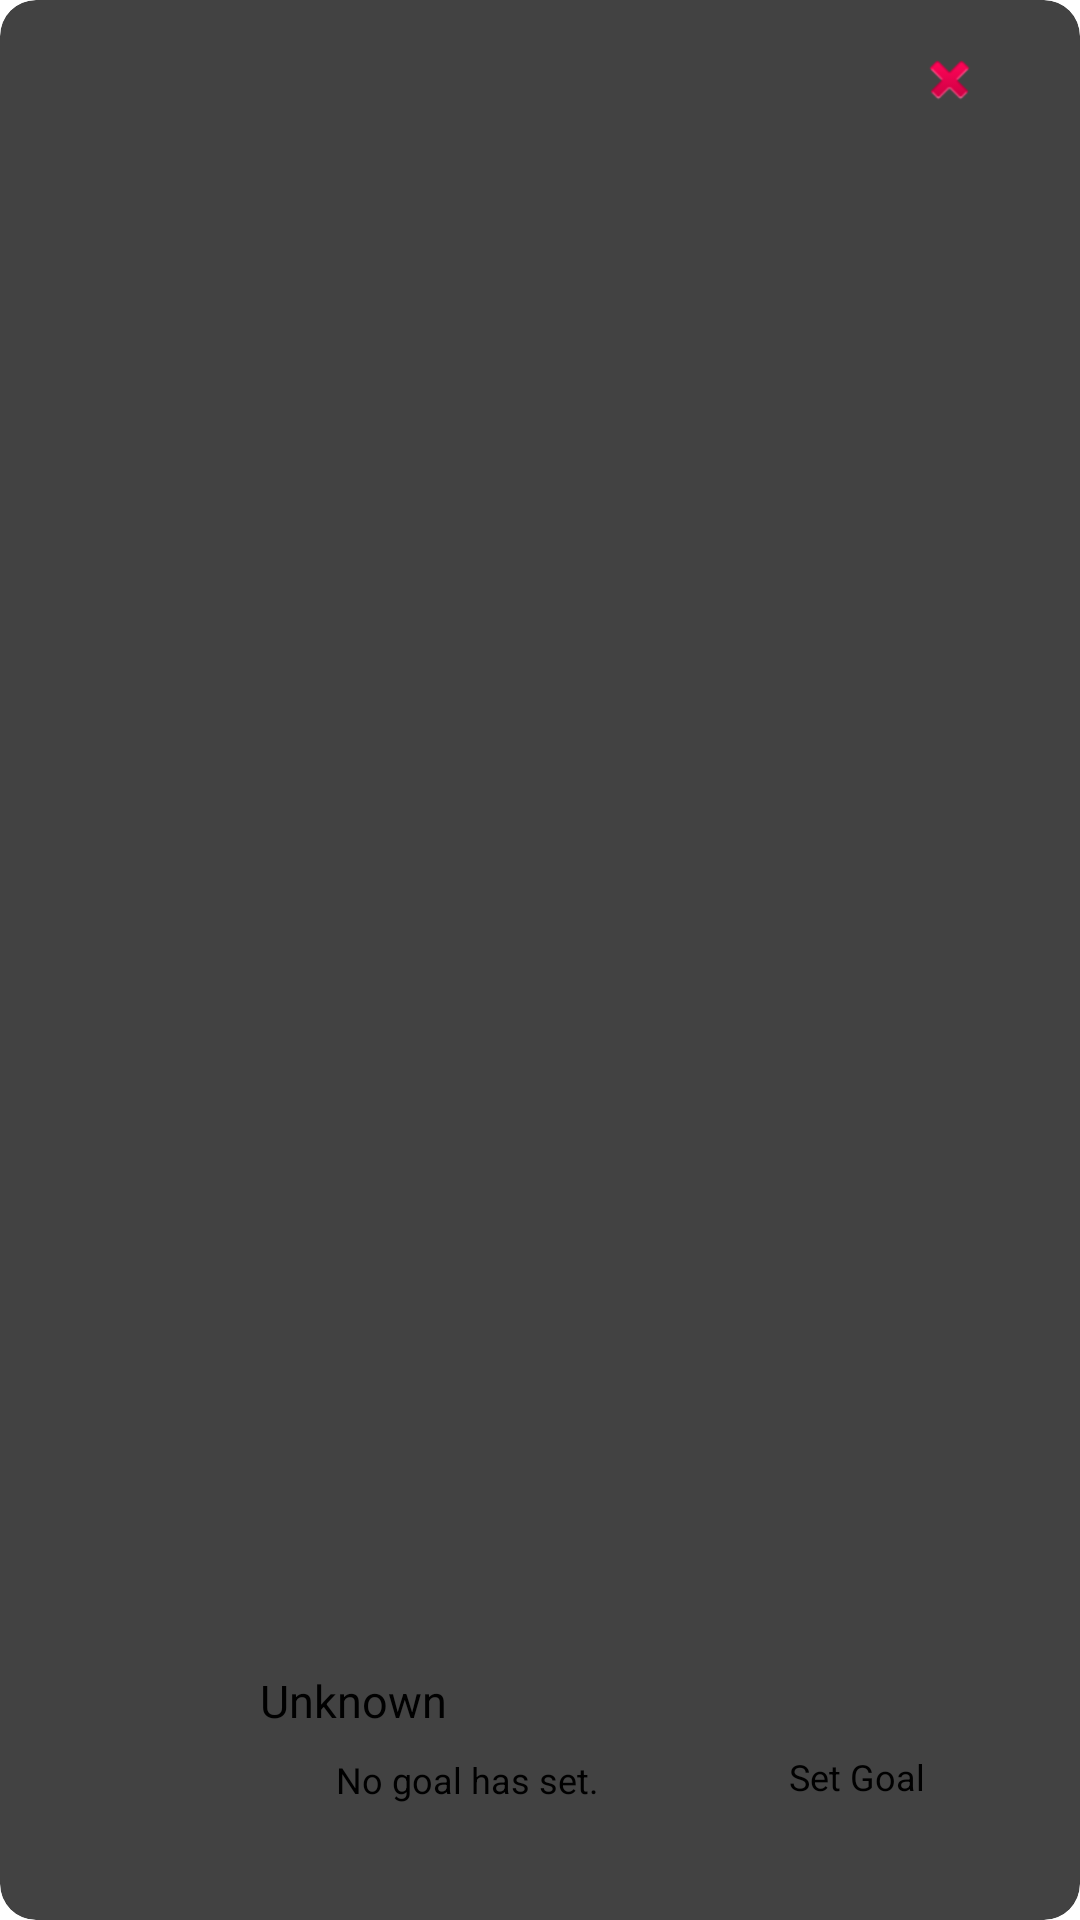

Named icons in this screenshot (1080*1920) and their bounding boxes, [x1, y1, x2, y2]:
delete: [930, 61, 969, 99]
